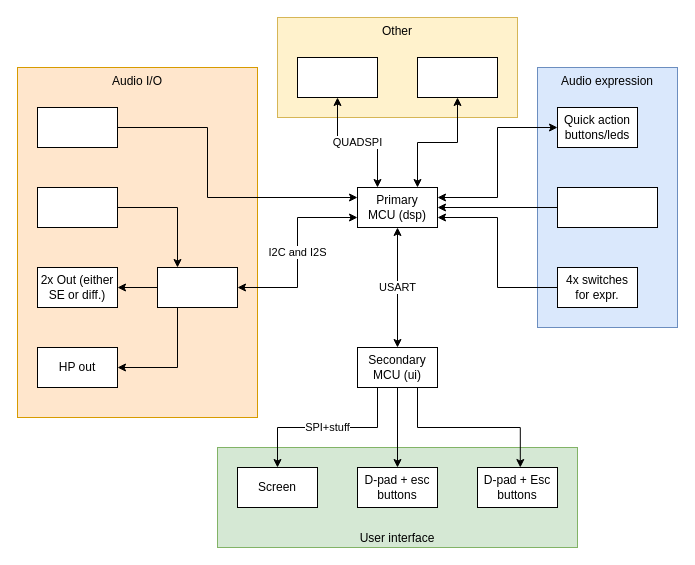
Image size: 695x565. Some labels were removed from this diagram. Here are the shapes that lost their labels. From the top down, the centre of each, then its label:
At pixel 337 77: "Flash".
At pixel 457 77: "USB stuff".
At pixel 77 127: "4x switches for audio jacks".
At pixel 77 207: "2x In (either SE or diff.)".
At pixel 607 207: "Analog In 1x pot + 4x expr".
At pixel 197 287: "Audio codec".
